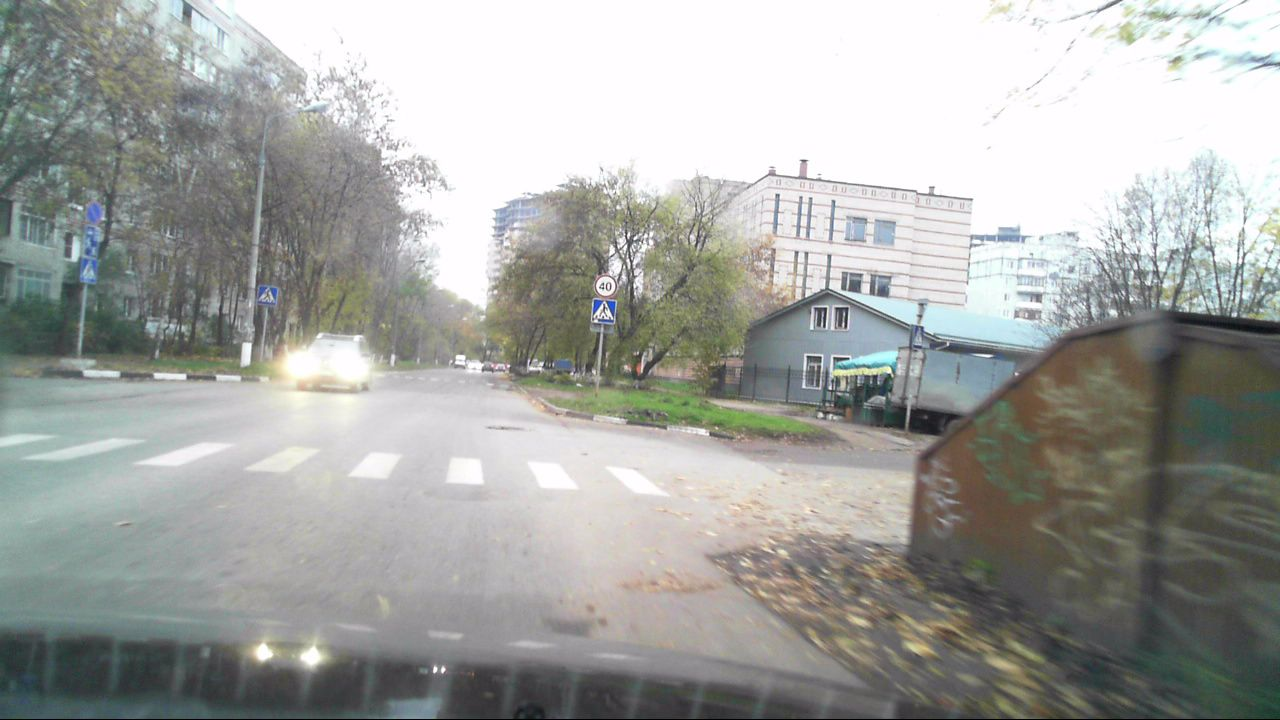speed_warning_40: (595, 275, 616, 297)
